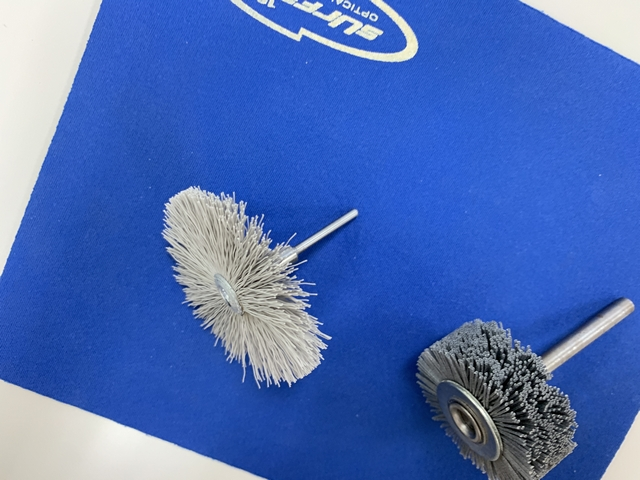TOOL: (139, 173, 383, 398)
Wheel Brush: (400, 282, 635, 480)
